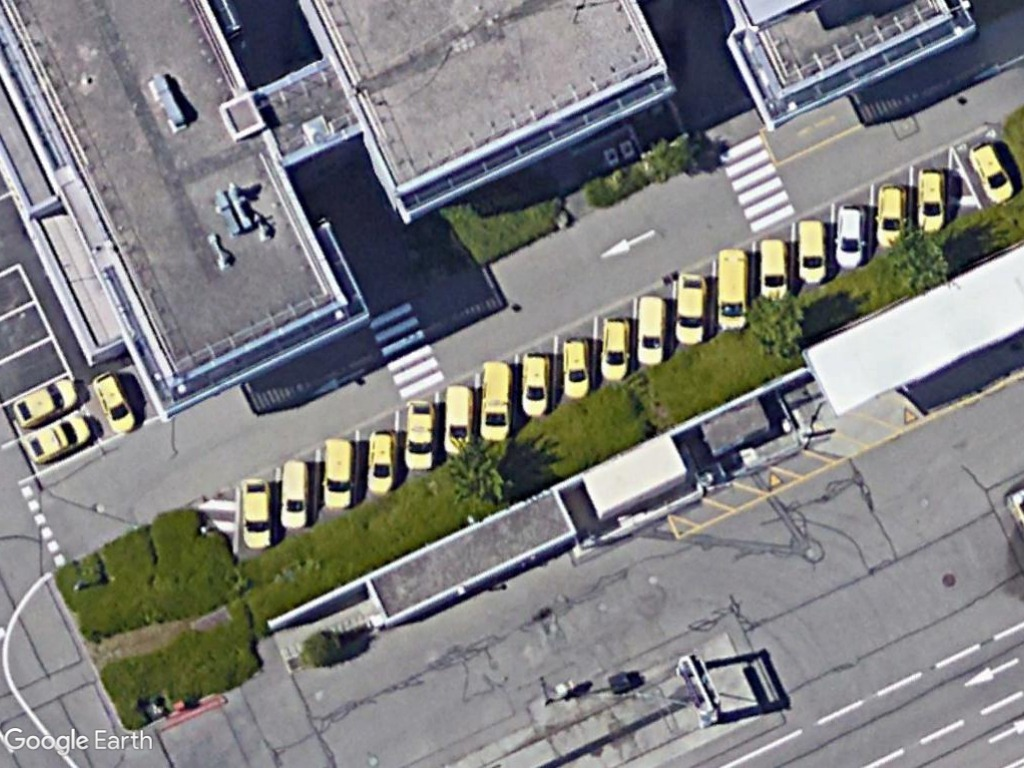car: (8, 374, 78, 432), (23, 411, 94, 464), (88, 370, 139, 437), (965, 140, 1016, 205), (672, 270, 709, 348), (913, 164, 949, 238), (832, 201, 868, 272), (597, 312, 631, 385), (238, 476, 271, 551), (363, 424, 396, 499), (874, 180, 909, 250), (404, 397, 434, 476), (519, 348, 551, 420), (559, 332, 590, 401)
van: (716, 246, 751, 334), (480, 357, 515, 444), (319, 435, 354, 513), (441, 381, 475, 460), (276, 455, 310, 532), (633, 292, 667, 368), (794, 213, 828, 286), (756, 236, 789, 304)
